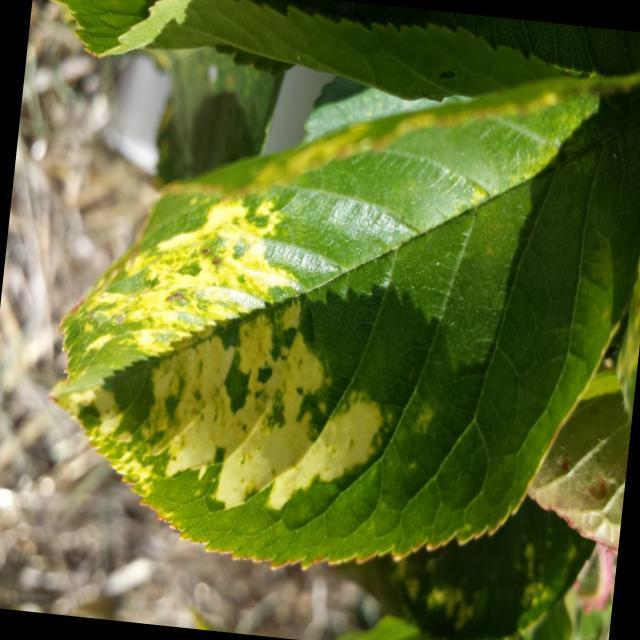Mosaic Virus: (37, 54, 640, 585)
